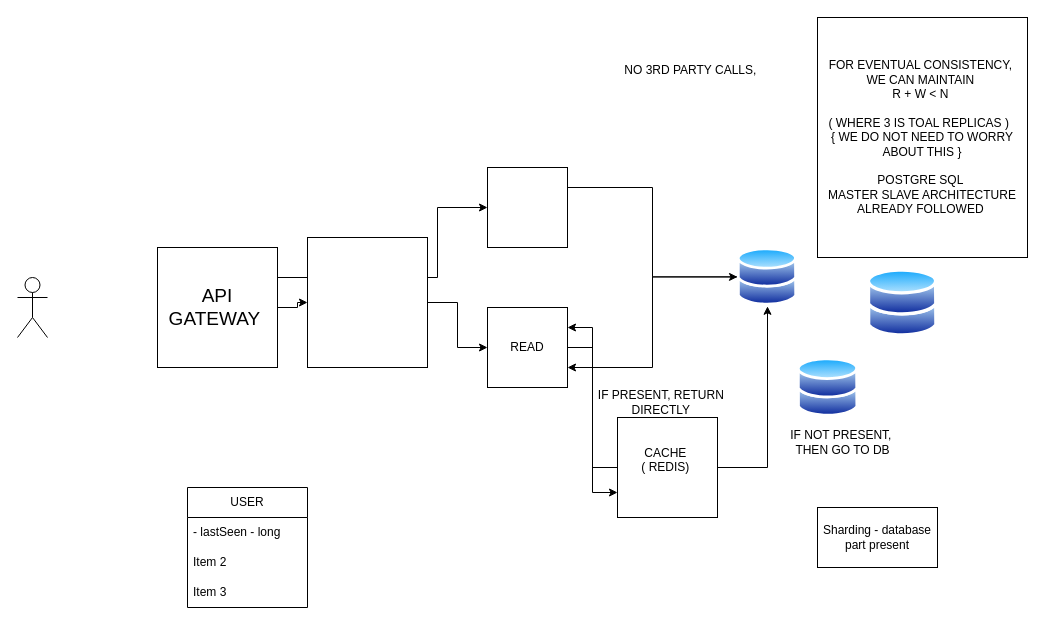
The diagram is 1045 pixels wide and 625 high, and some of its shapes have lost their labels. The shapes that lost their labels are listed below. From the top down, each one's box as (x1, y1, x2, y2) in pixels, then its label:
(486, 166, 568, 248): WRITE
(16, 276, 48, 338): Actor
(306, 236, 428, 368): Chat Server
